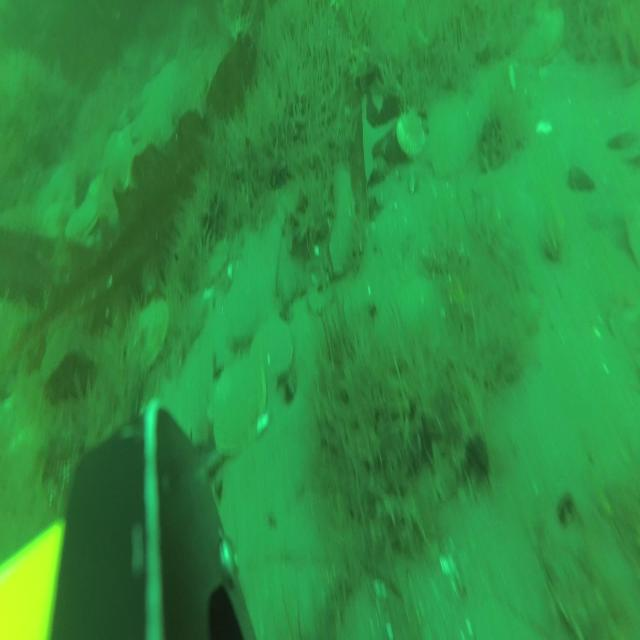scallop: (210, 357, 268, 455), (509, 2, 564, 61), (130, 296, 168, 373), (252, 317, 293, 383), (89, 175, 121, 223), (105, 130, 131, 182), (64, 201, 96, 238), (398, 108, 424, 153)
